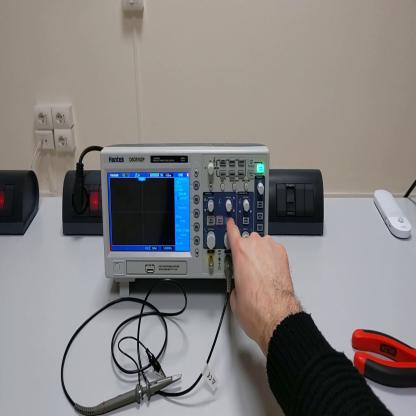hand: (226, 211, 300, 349)
oscilloscope: (101, 142, 270, 297)
oscilloscope probe tip: (81, 373, 185, 414)
pliers: (350, 327, 416, 390)
socket: (61, 168, 107, 240), (1, 167, 42, 237)
